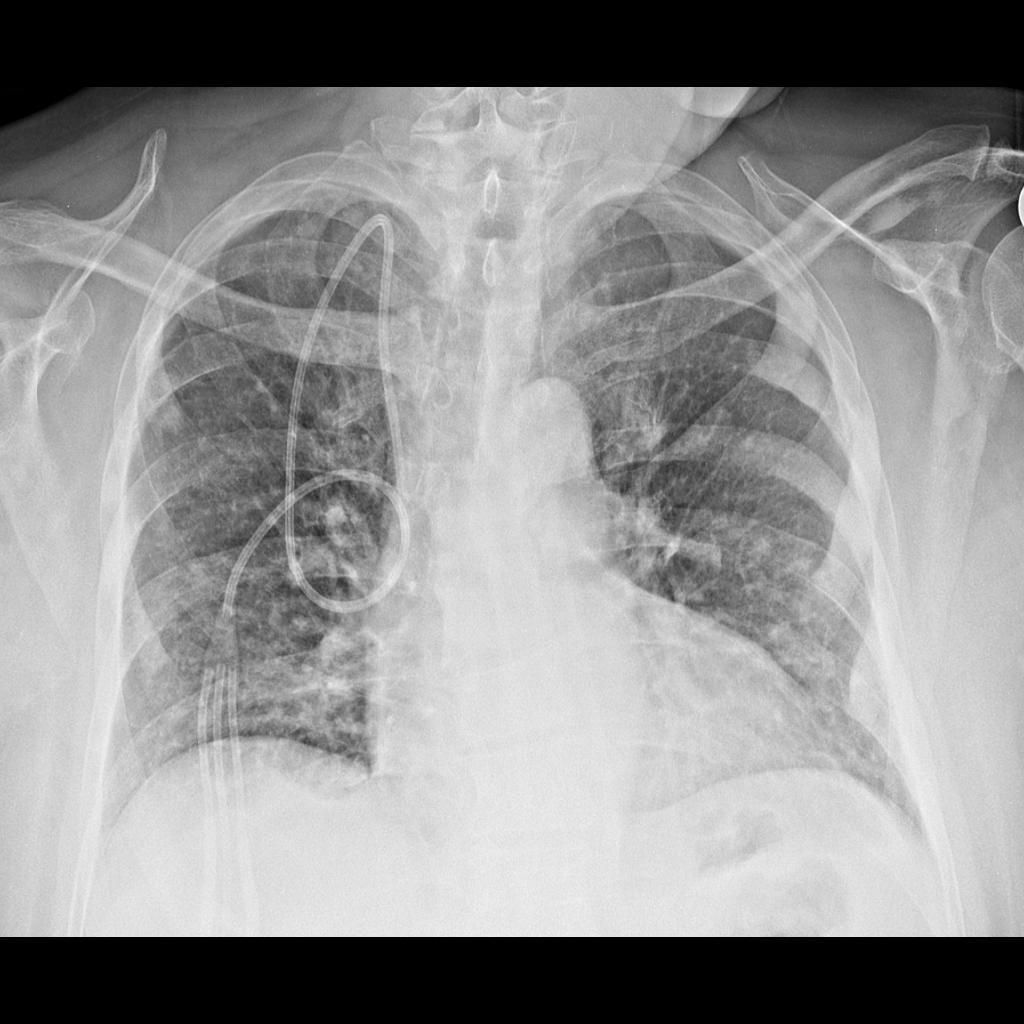Nodule: (137, 366, 189, 438)
